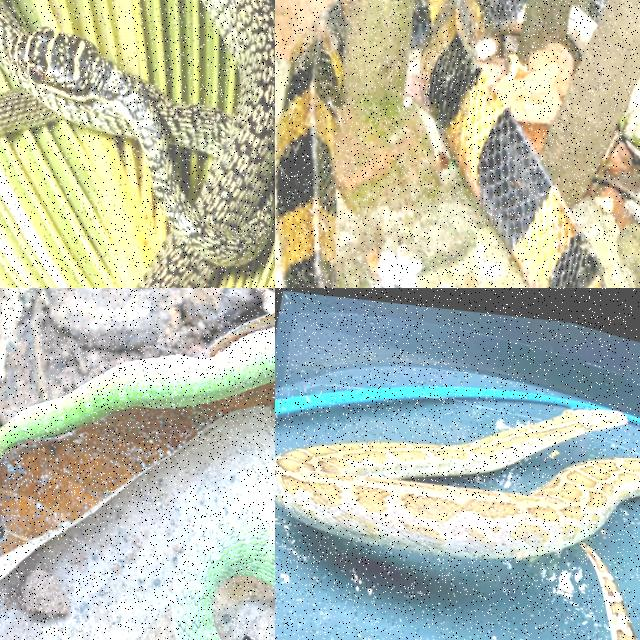Bungarus fasciatus: (414, 0, 604, 287)
Chrysopelea ornata: (0, 0, 274, 287)
Python bivittatus: (275, 410, 639, 558)
Trimeresurus: (0, 328, 274, 458)
